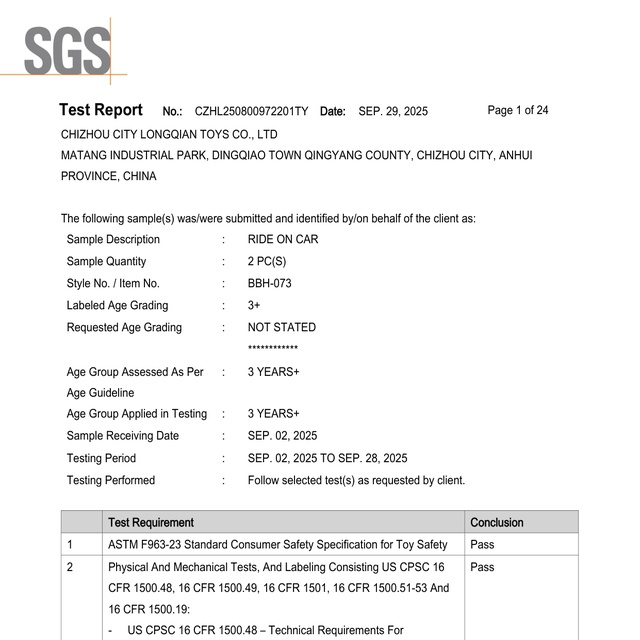sgs: (24, 25, 112, 75)
